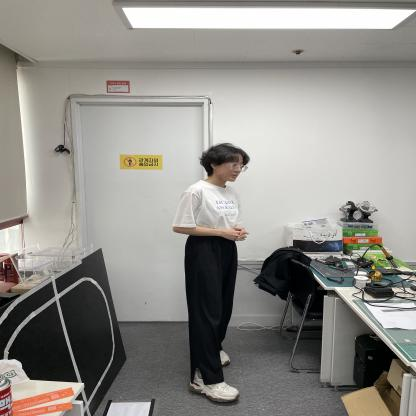normal: (172, 138, 251, 408)
